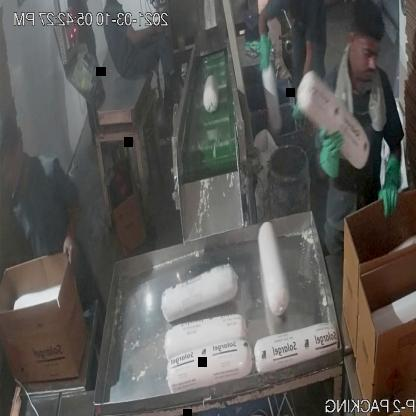glove: (374, 143, 411, 226), (312, 123, 348, 200)
no_glove: (60, 185, 82, 272), (124, 20, 168, 47)
